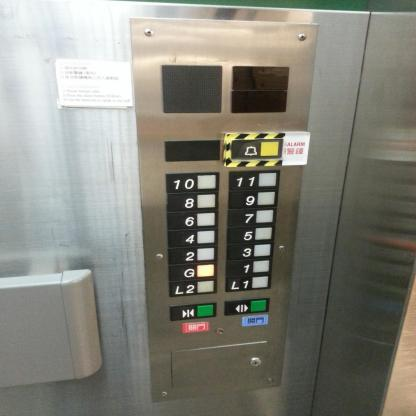1: (224, 258, 274, 278)
10: (165, 169, 220, 194)
11: (227, 167, 282, 191)
2: (166, 244, 219, 264)
3: (224, 242, 275, 262)
4: (166, 226, 219, 249)
5: (225, 224, 277, 244)
6: (165, 209, 219, 232)
7: (226, 208, 279, 228)
8: (165, 191, 219, 212)
9: (227, 187, 280, 211)
G: (167, 261, 218, 283)
L1: (223, 273, 273, 293)
L2: (167, 277, 220, 298)
alarm: (230, 136, 284, 162)
close: (168, 300, 218, 322)
keyhole: (250, 358, 262, 366), (215, 327, 226, 335)
led: (230, 64, 290, 90), (230, 89, 288, 114), (164, 139, 221, 163)
open: (223, 294, 271, 315)
